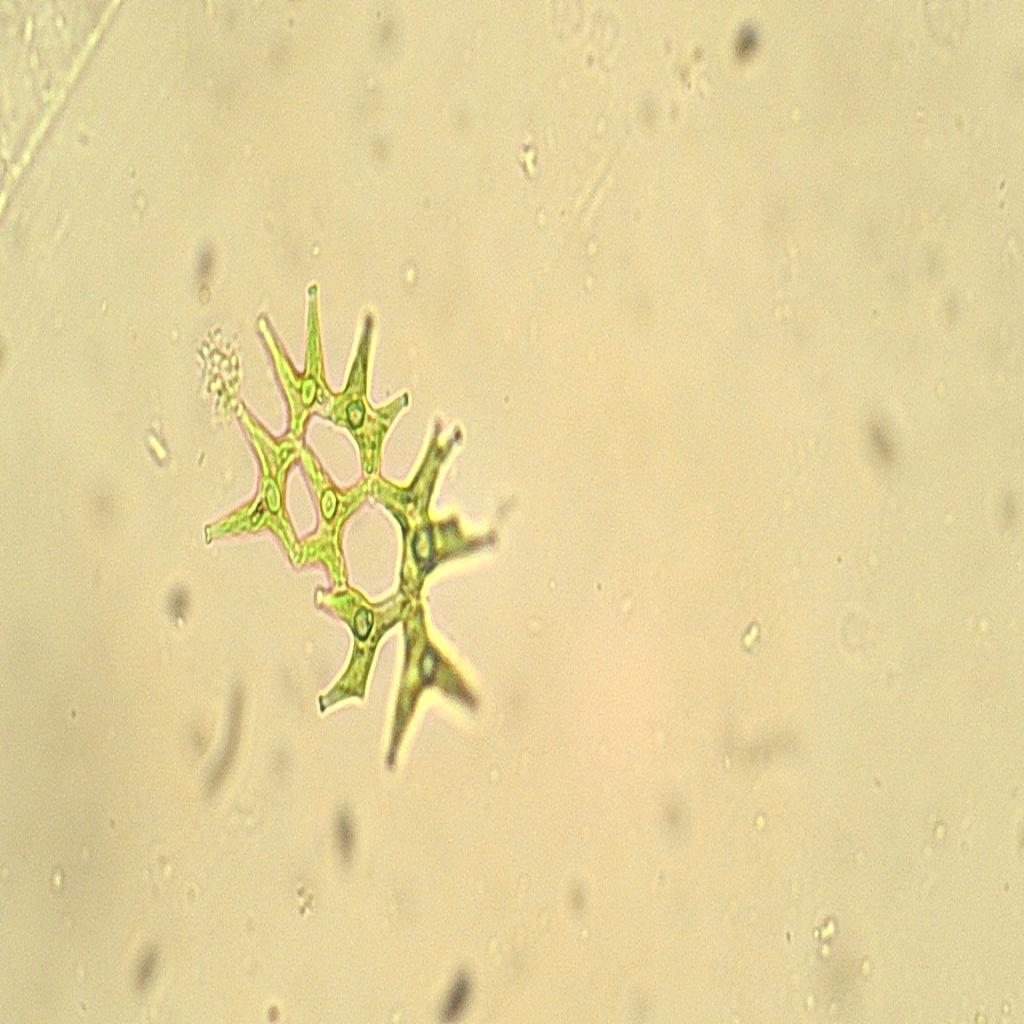Pediastrum_1TH: (199, 260, 504, 794)
